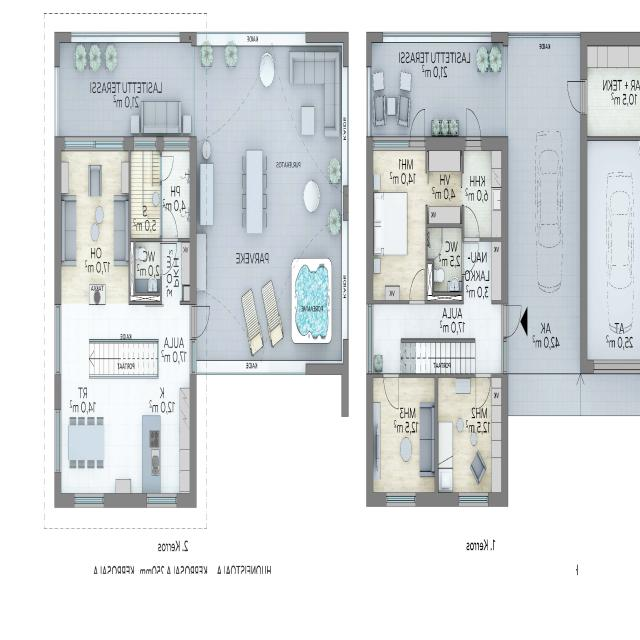door: (501, 306, 523, 337), (466, 105, 481, 150), (190, 306, 211, 338), (410, 106, 425, 150), (566, 81, 587, 112), (162, 207, 178, 242), (462, 243, 479, 274), (160, 244, 177, 275), (476, 374, 491, 409), (410, 269, 424, 304), (384, 374, 398, 409), (465, 207, 479, 241), (160, 156, 173, 181)
